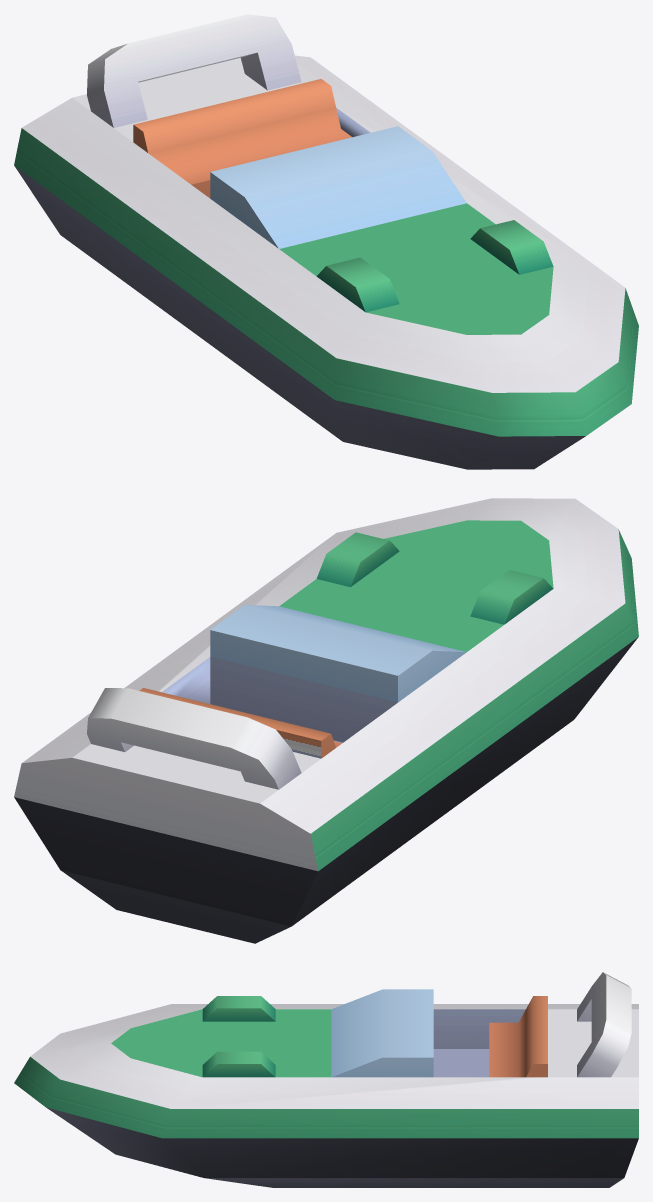
Rendered from boat-speed-j.glb.
The picture shows the model from 3 angles, top to bottom: view 1: azimuth 30°, elevation 25°; view 2: azimuth 150°, elevation 25°; view 3: azimuth 270°, elevation 25°; orthographic projection. The views are drawn at different scales.
Parts seen in each view (by area): view 1: boat-speed-j; view 2: boat-speed-j; view 3: boat-speed-j.
Boxes of the visible parts, x1,y1,x2,y2 form: boat-speed-j: (14, 14, 638, 469); boat-speed-j: (14, 498, 638, 943); boat-speed-j: (14, 972, 638, 1187).
Size of the model in its own units: 1.78 by 1.25 by 4.27.
1 material, 1 textured.
